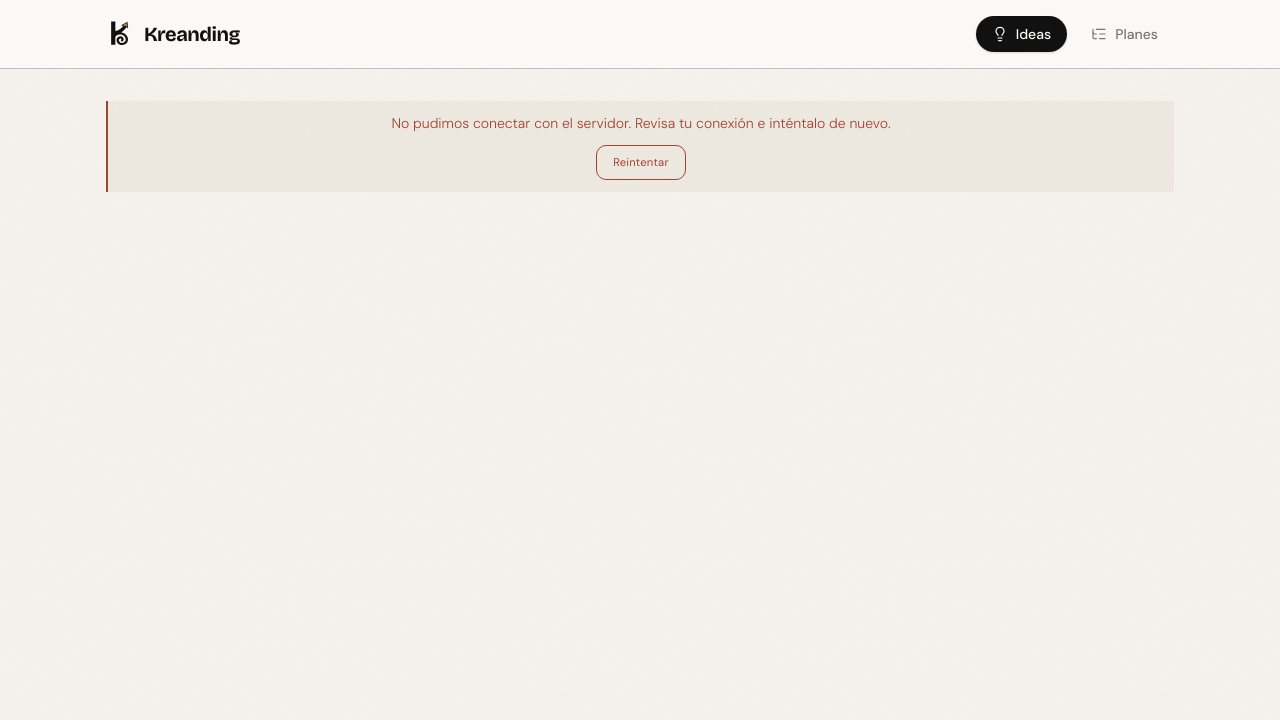
Scenario: Listado de ideas › ofrece reintentar cuando la carga falla
Expected: the message shows "No pudimos conectar", x1=391 y1=114 x2=891 y2=132
Click the button "Reintentar": (641, 162) x1=596 y1=145 x2=686 y2=180
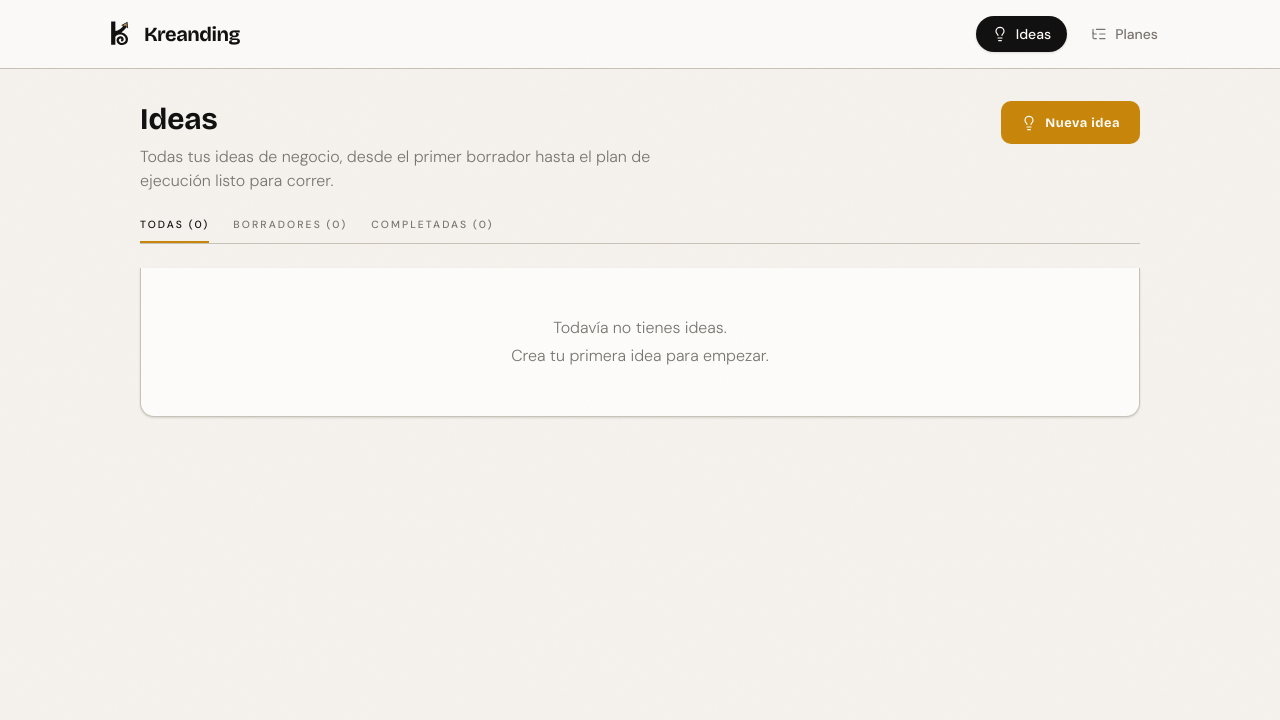
Expected: the text "Todavía no tienes ideas." is shown, x1=553 y1=317 x2=727 y2=338
